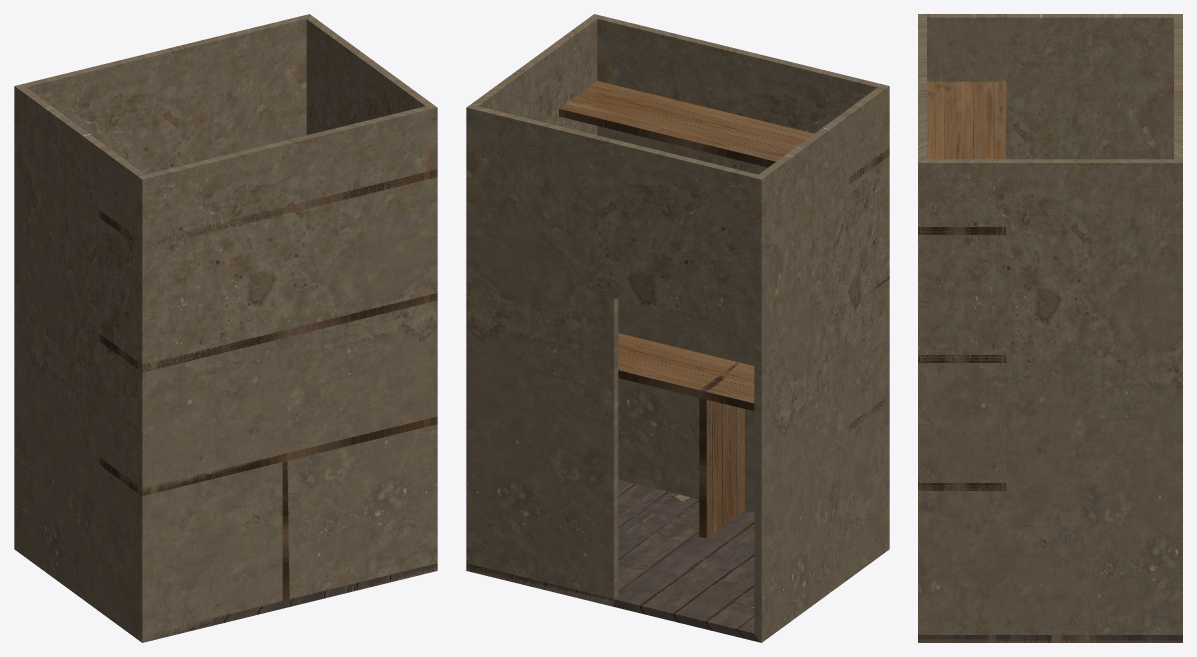
The model's file is closet.glb.
3 renders of one model, left to right at view 1: azimuth 30°, elevation 25°; view 2: azimuth 150°, elevation 25°; view 3: azimuth 270°, elevation 25°, orthographic. The views are drawn at different scales.
Parts seen in each view (by area): view 1: Plane, Plane.002, Plane.001; view 2: Plane, Plane.002, Plane.001; view 3: Plane, Plane.002, Plane.001.
Boxes of the visible parts, <box> form: Plane: <box>14,14,437,642</box>; Plane.002: <box>14,84,437,642</box>; Plane.001: <box>99,169,437,608</box>; Plane: <box>466,14,889,606</box>; Plane.002: <box>466,84,889,642</box>; Plane.001: <box>559,80,889,538</box>; Plane: <box>918,14,1182,642</box>; Plane.002: <box>918,14,1182,642</box>; Plane.001: <box>918,81,1006,490</box>.
Bounding box in the file's own units: 2 × 3 × 1.5.
Materials: 3 (3 with a texture image).
